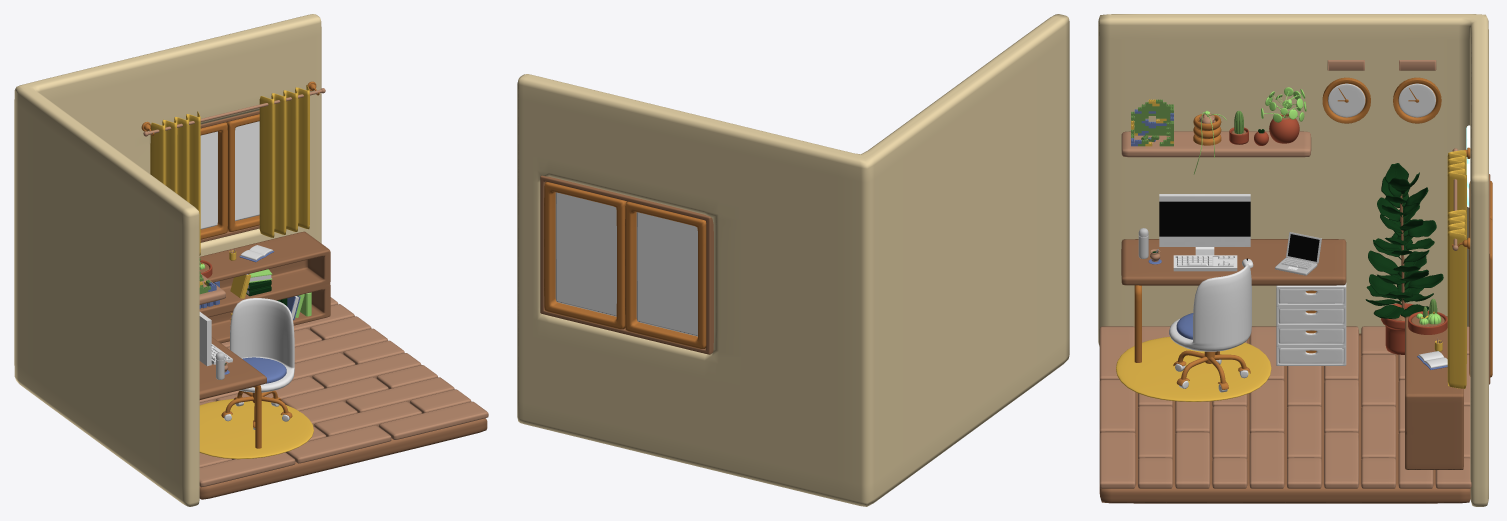
File: room.glb
3 renders of one model, left to right at view 1: azimuth 30°, elevation 25°; view 2: azimuth 150°, elevation 25°; view 3: azimuth 270°, elevation 25°, orthographic. The views are drawn at different scales.
Visible parts, largest first — view 1: walls, flooring, curtain, bookshelf, rug, chair, window_glass, floor, window_glass_trim, desk, book, chair_pillow (+2 smaller); view 2: walls, window_glass, window_glass_trim, window; view 3: walls, flooring, floor, bookshelf, desk, pandurata_leaf, rug, desk_shelfs, computer, curtain, chair, shelf_1 (+13 smaller).
Part boxes in pixels (x1,y1,x2,y2): walls: (14,14,321,506); flooring: (199,297,488,487); curtain: (141,81,325,255); bookshelf: (199,231,330,343); rug: (199,399,313,459); chair: (230,298,294,392); window_glass: (200,121,259,229); floor: (199,418,487,499); window_glass_trim: (200,114,259,239); desk: (199,337,266,399); book: (199,269,311,320); chair_pillow: (242,357,286,383); walls: (517,14,1069,506); window_glass: (555,192,697,336); window_glass_trim: (544,181,706,348); window: (540,175,713,354); walls: (1098,14,1488,506); flooring: (1099,326,1471,488); floor: (1099,333,1470,503); bookshelf: (1405,316,1463,469); desk: (1121,239,1346,285); pandurata_leaf: (1365,163,1443,318); rug: (1116,336,1271,401); desk_shelfs: (1276,283,1346,365); computer: (1159,194,1250,255); curtain: (1447,147,1470,388); chair: (1169,264,1251,351); shelf_1: (1121,131,1311,157).
Size of the model in its own units: 4.2 by 3.94 by 4.24.
